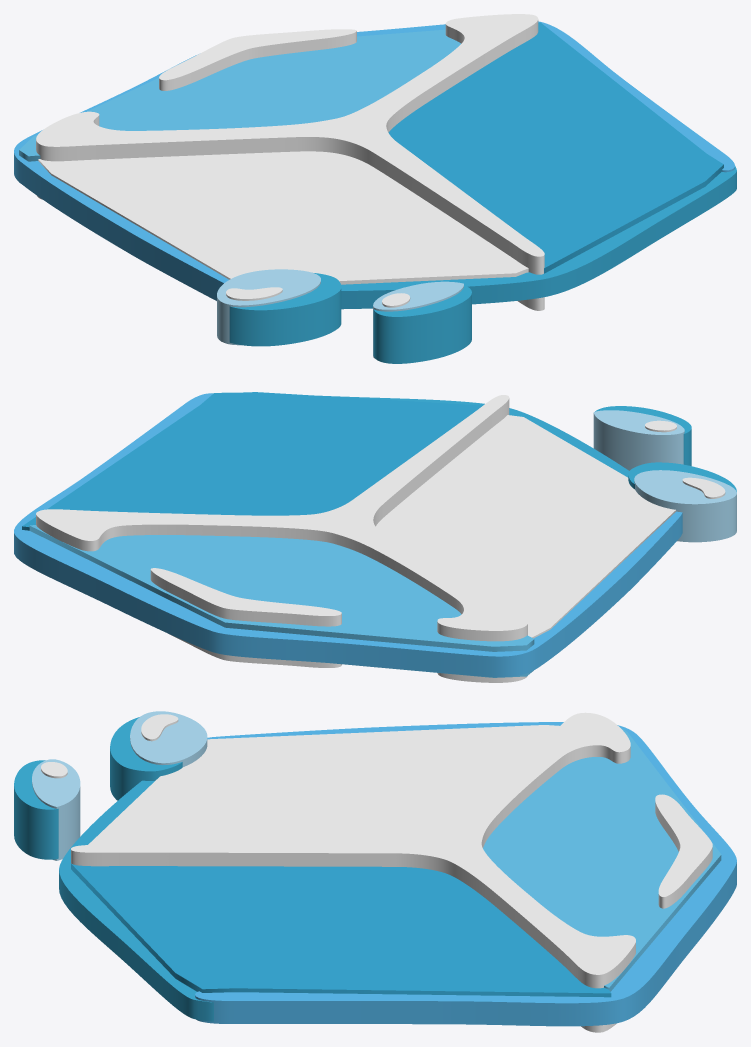
File: emoji_u1f9ca.glb
3 views of the same model, one above another, from view 1: azimuth 30°, elevation 25°; view 2: azimuth 150°, elevation 25°; view 3: azimuth 270°, elevation 25° (orthographic). The views are drawn at different scales.
Parts seen in each view (by area): view 1: emoji_u1f9ca; view 2: emoji_u1f9ca; view 3: emoji_u1f9ca.
Part boxes in pixels (bbox=[...]): emoji_u1f9ca: bbox=[14, 14, 736, 363]; emoji_u1f9ca: bbox=[14, 392, 736, 682]; emoji_u1f9ca: bbox=[14, 711, 736, 1032].
Size of the model in its own units: 0.0314 by 0.003 by 0.034.
